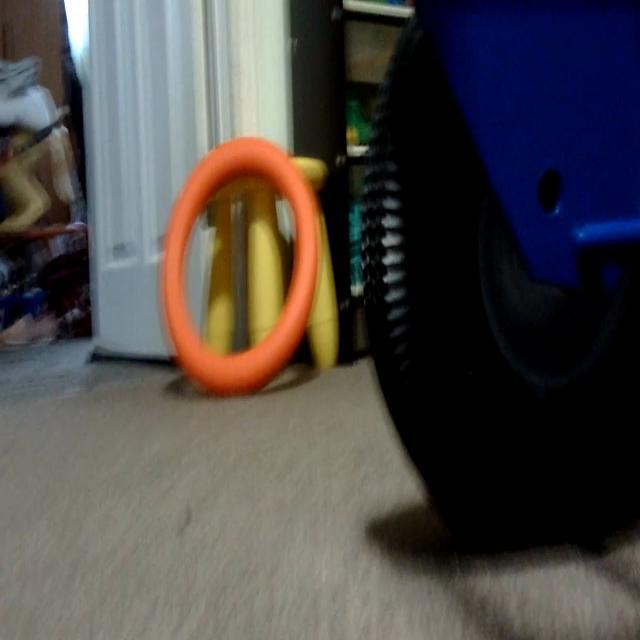note: (162, 131, 322, 395)
